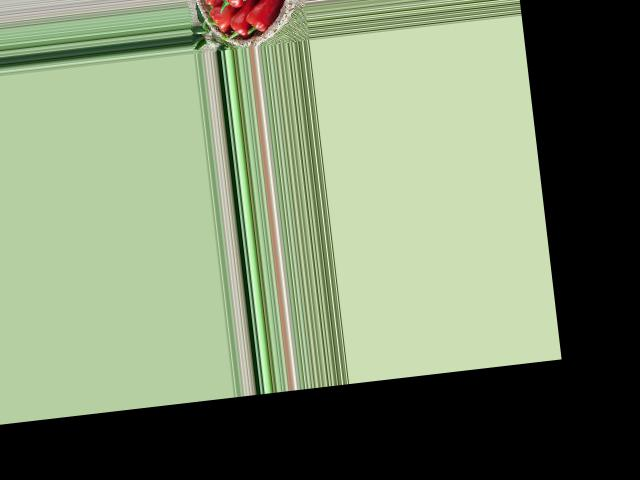bell_pepper: (224, 10, 252, 42)
